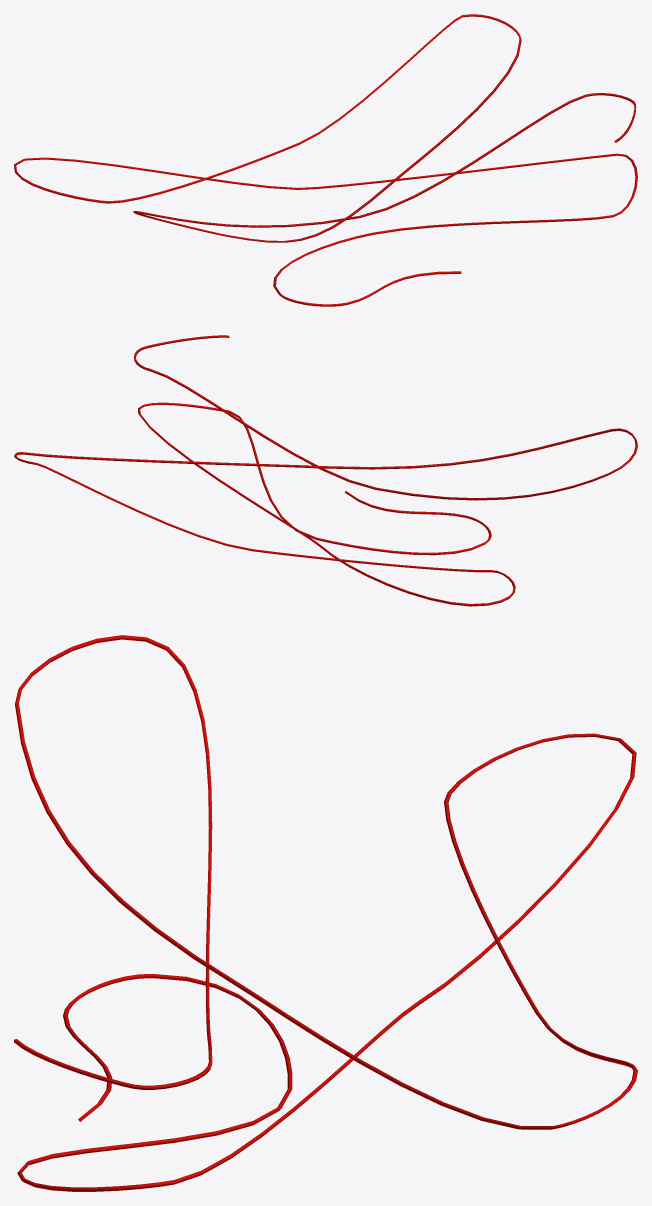
Rendered from Vault_01_Cable_02.fbx.
3 renders of one model, top to bottom at view 1: azimuth 30°, elevation 25°; view 2: azimuth 150°, elevation 25°; view 3: azimuth 270°, elevation 25°, orthographic. The views are drawn at different scales.
Parts seen in each view (by area): view 1: Cable_LOD0; view 2: Cable_LOD0; view 3: Cable_LOD0.
Boxes of the visible parts, bbox=[...] form: Cable_LOD0: bbox=[14, 14, 637, 306]; Cable_LOD0: bbox=[14, 335, 637, 606]; Cable_LOD0: bbox=[14, 635, 637, 1191].
Size of what is drawn, in the model's own units: 1237 by 295 by 748.
